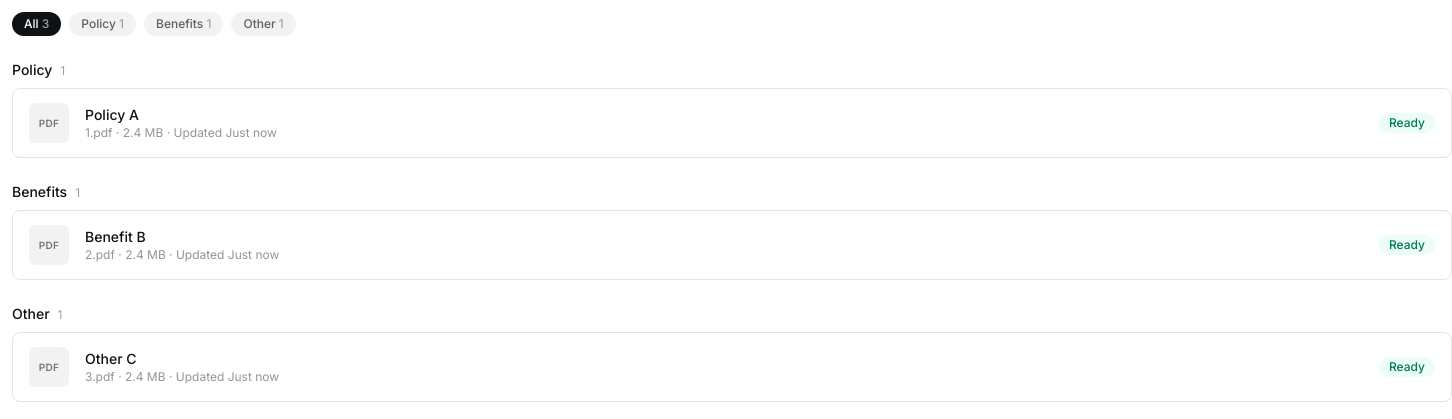
Test: DocumentList › filters by category using counts from the same documents
The width and height of the screenshot is (1452, 419).
Click the button "Benefits 1" at (184, 24), box [144,12,223,36]
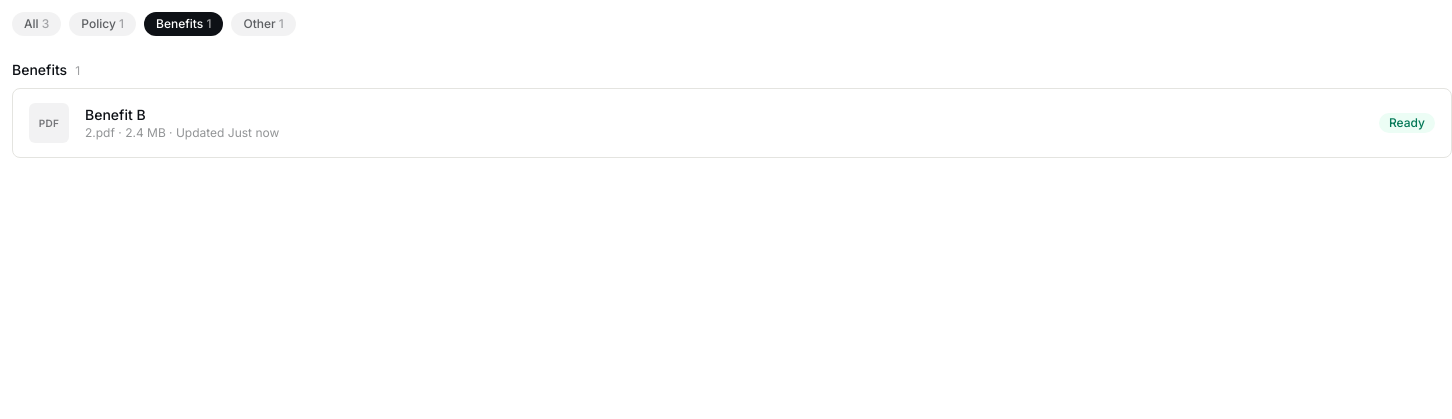
expect the text "Benefit B" is shown: met, box [85,106,146,123]
expect the text "Policy A" is gone: met
